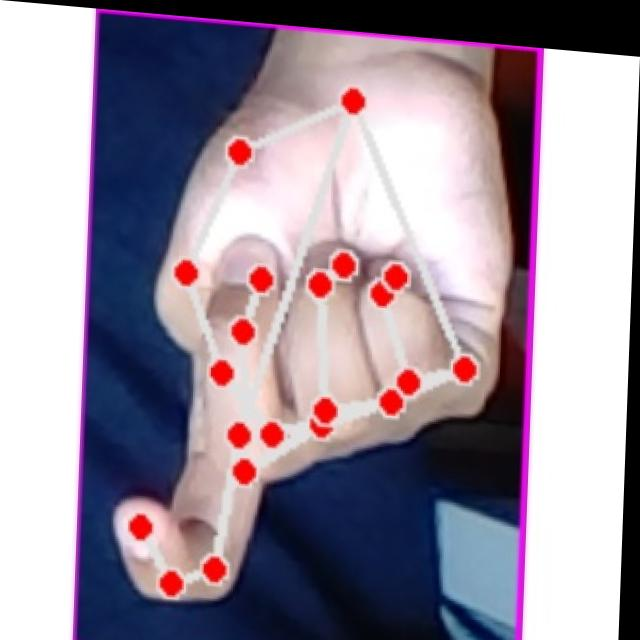Z: (106, 43, 516, 636)
